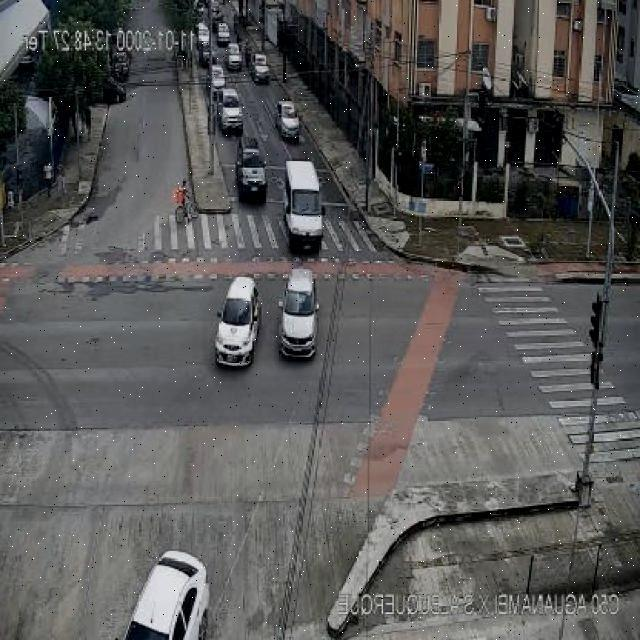Car: (120, 535, 213, 640), (212, 264, 262, 374), (276, 264, 329, 364), (235, 139, 271, 204), (275, 95, 304, 144), (220, 89, 247, 138), (206, 61, 230, 93), (251, 52, 274, 84), (228, 46, 246, 74), (197, 22, 210, 48), (220, 24, 230, 45), (220, 536, 220, 542)
Cycle: (168, 180, 196, 224)
Van: (282, 160, 332, 255)
